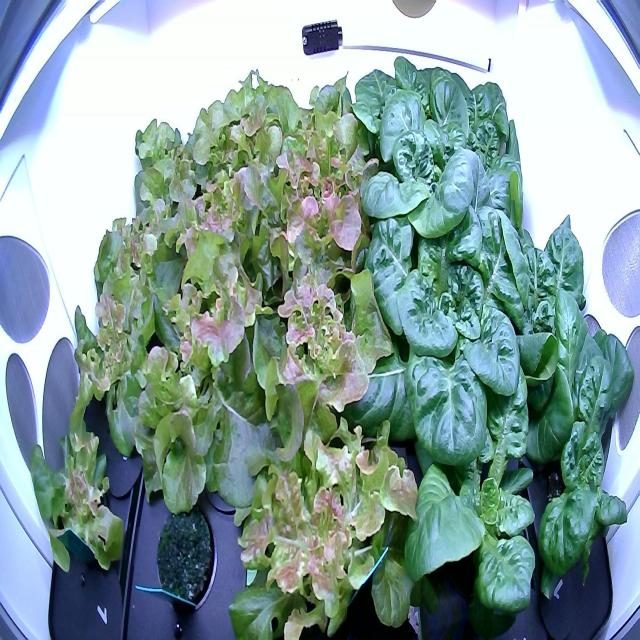Ready: (328, 192, 549, 478), (352, 79, 502, 274), (468, 196, 608, 379), (417, 51, 528, 204), (343, 37, 456, 182)
pod: (146, 490, 224, 621)
young: (376, 345, 544, 628), (530, 297, 636, 612)
